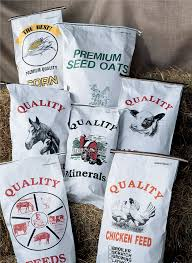feed_bag: (91, 140, 189, 263)
